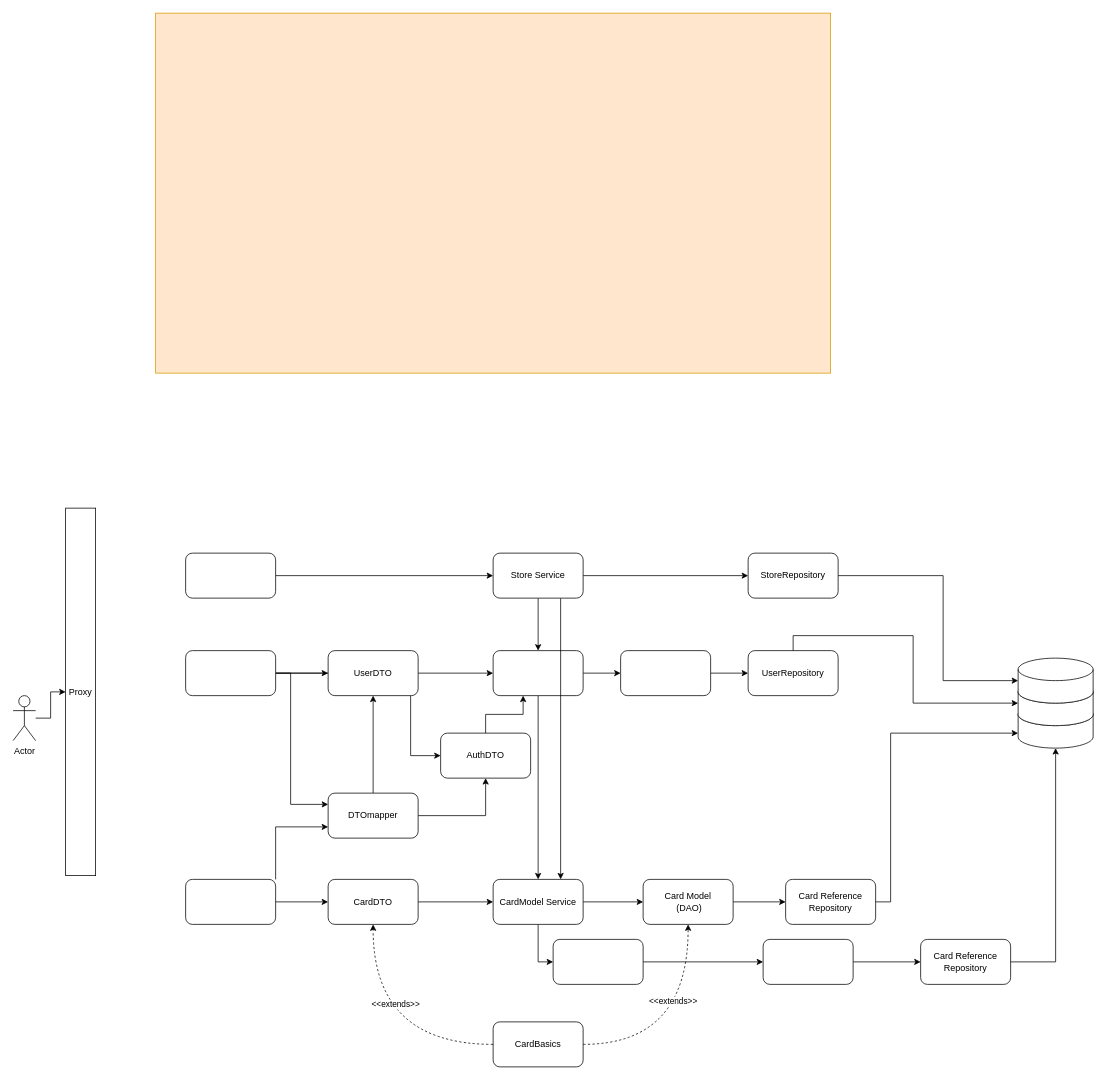
Image size: 1106x1080. Some labels were removed from this diagram. Here are the shapes that lost their labels. From the top down, the box of each, then its label:
(185, 552, 276, 598): Store Controller
(185, 650, 276, 696): User Controller
(492, 650, 583, 696): User Service
(620, 650, 711, 696): UserModel (DAO)
(185, 879, 276, 924): Card Controller
(552, 939, 643, 984): CardReference Service
(762, 939, 853, 984): Card Reference (DAO)
